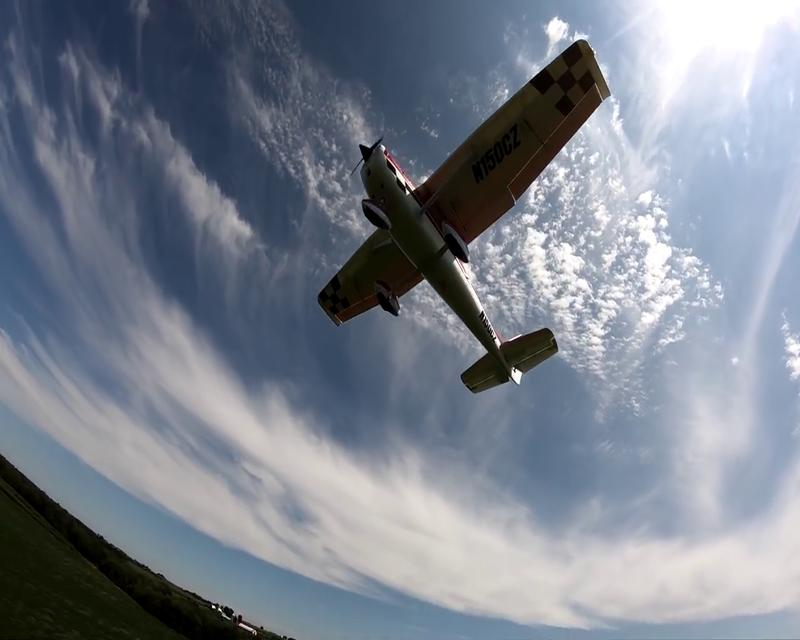UAV: (316, 37, 611, 394)
